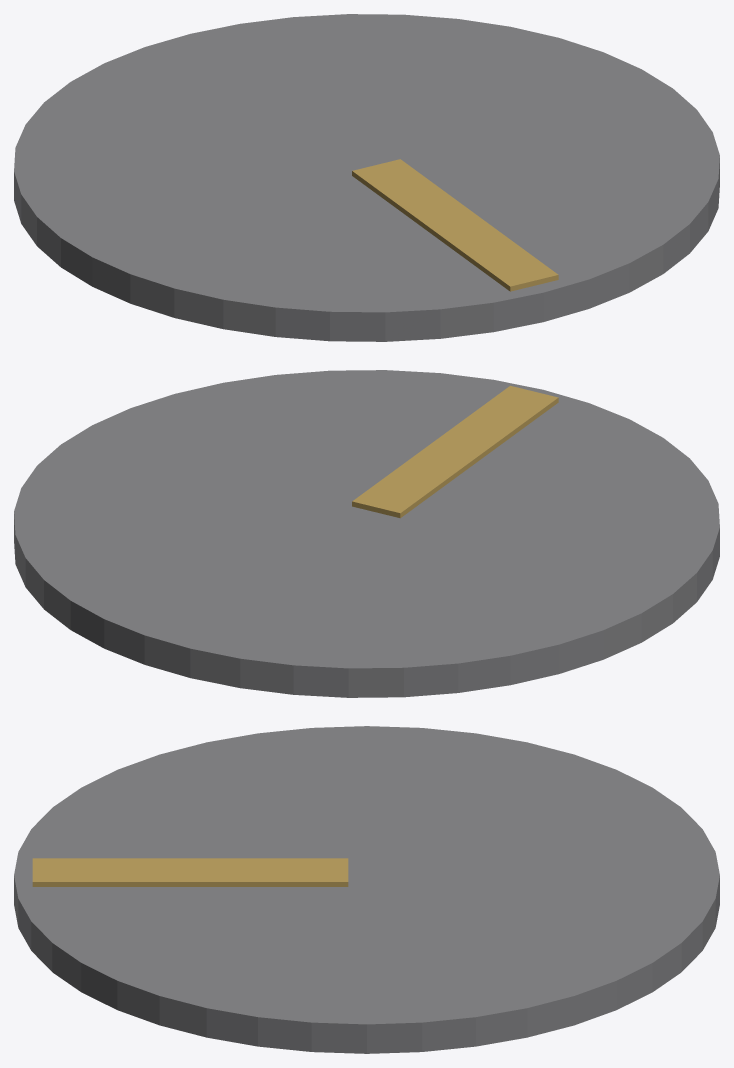
Rendered from SM_TD2_Turntable_Plate.gltf.
3 views of the same model, one above another, from view 1: azimuth 30°, elevation 25°; view 2: azimuth 150°, elevation 25°; view 3: azimuth 270°, elevation 25° (orthographic).
Visible parts, largest first — view 1: SM_TD2_Turntable_Plate; view 2: SM_TD2_Turntable_Plate; view 3: SM_TD2_Turntable_Plate.
Part boxes in pixels (x1,y1,x2,y2): SM_TD2_Turntable_Plate: (14,14,719,341); SM_TD2_Turntable_Plate: (14,370,719,697); SM_TD2_Turntable_Plate: (14,726,719,1053).
Bounding box in the file's own units: 0.76 × 0.041 × 0.76.
